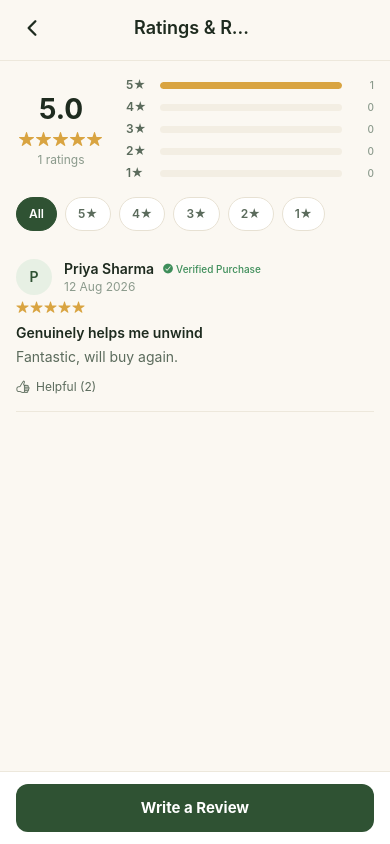
Test: ReviewsScreen › shows a star-specific empty state when a filter matches nothing
Expected: the text "Fantastic, will buy again." is shown, [16,348,178,365]
What coordinates should you click on to do the following:
click the text "3★" next to "5.0"
I would click on:
 (136, 128)
Its box is [126,121,146,136].
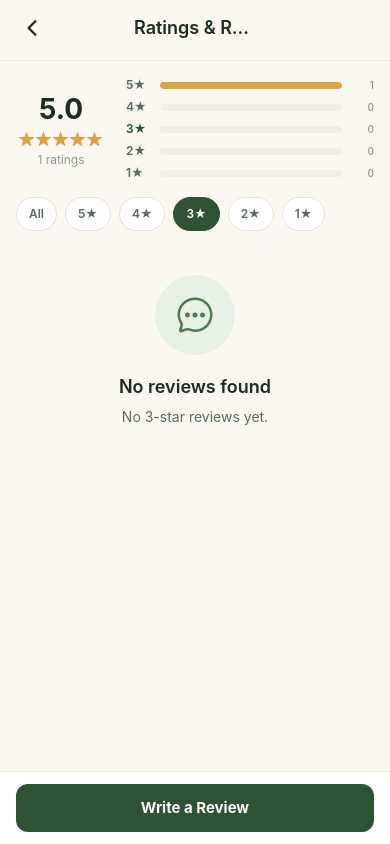
Now the text "No 3-star reviews yet." is shown, box [122,407,268,427]
